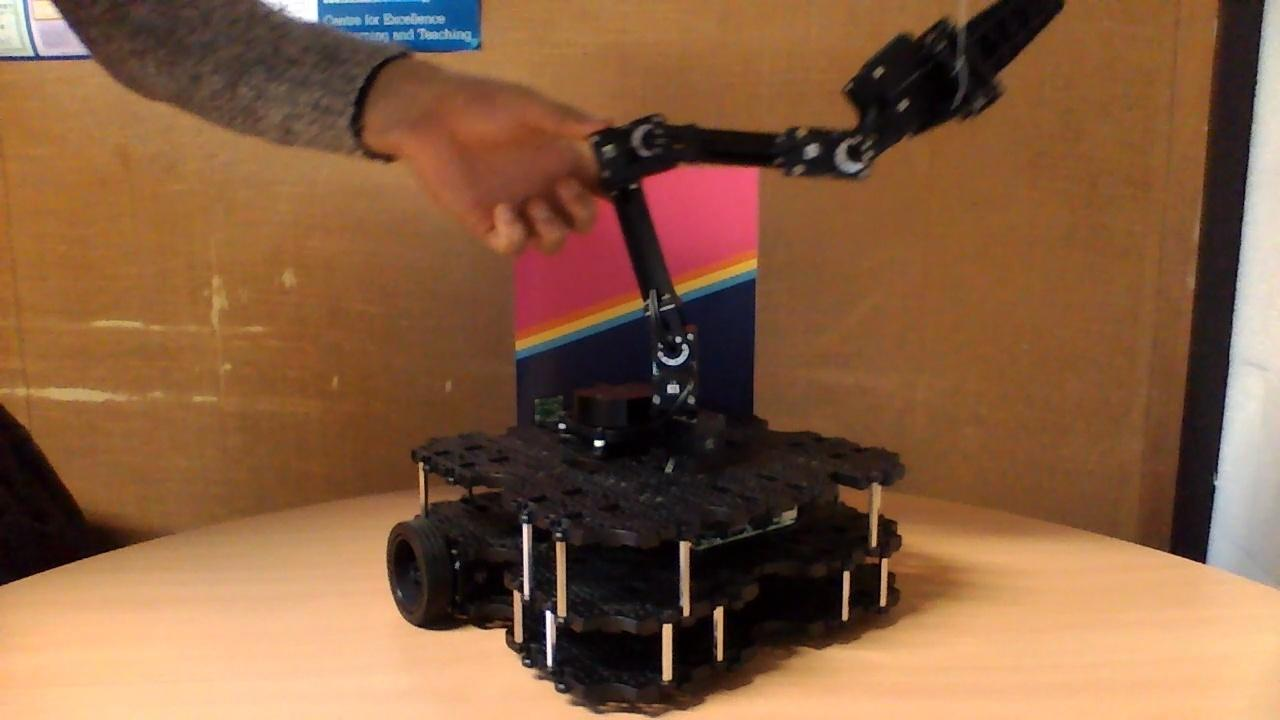Arm: (590, 111, 706, 376)
Hand: (830, 0, 1068, 185)
Wrist: (624, 110, 873, 185)
base: (382, 378, 907, 706)
